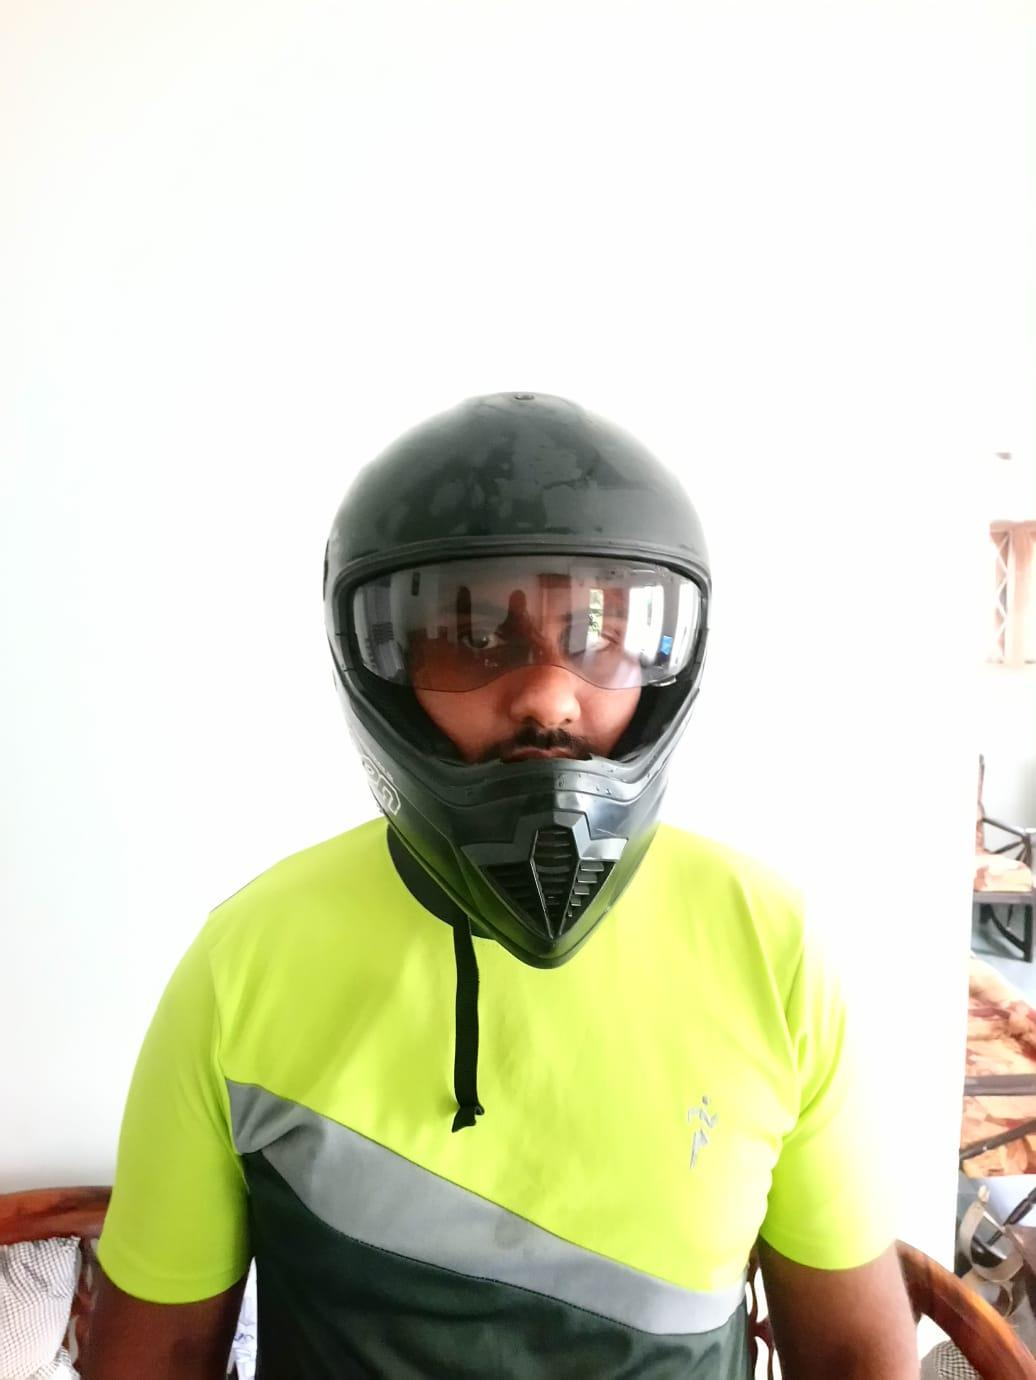helmet: (319, 389, 712, 966)
